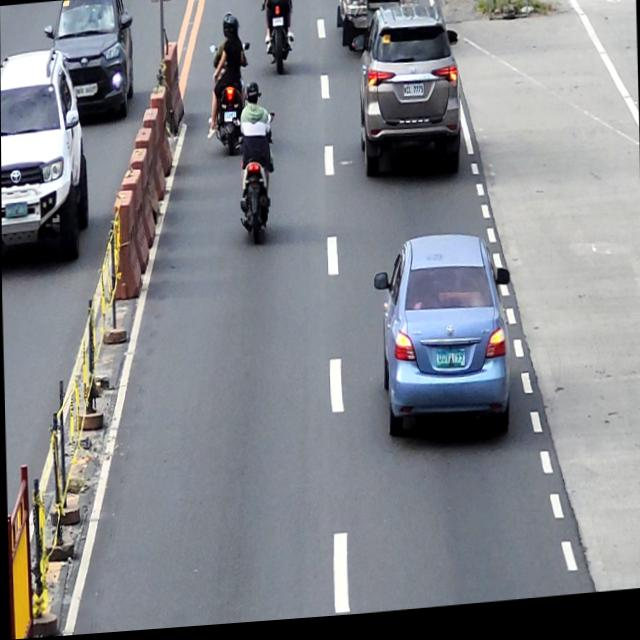Car: (372, 234, 513, 448), (0, 45, 89, 266), (356, 4, 462, 186), (43, 0, 133, 126)
Jeep: (334, 0, 418, 63)
License-Plate: (434, 352, 466, 377), (4, 200, 28, 220), (73, 84, 97, 99), (402, 89, 424, 103), (223, 113, 236, 126), (271, 20, 283, 31)
Motorcycle: (236, 114, 277, 249), (208, 43, 252, 161), (261, 0, 294, 80)
